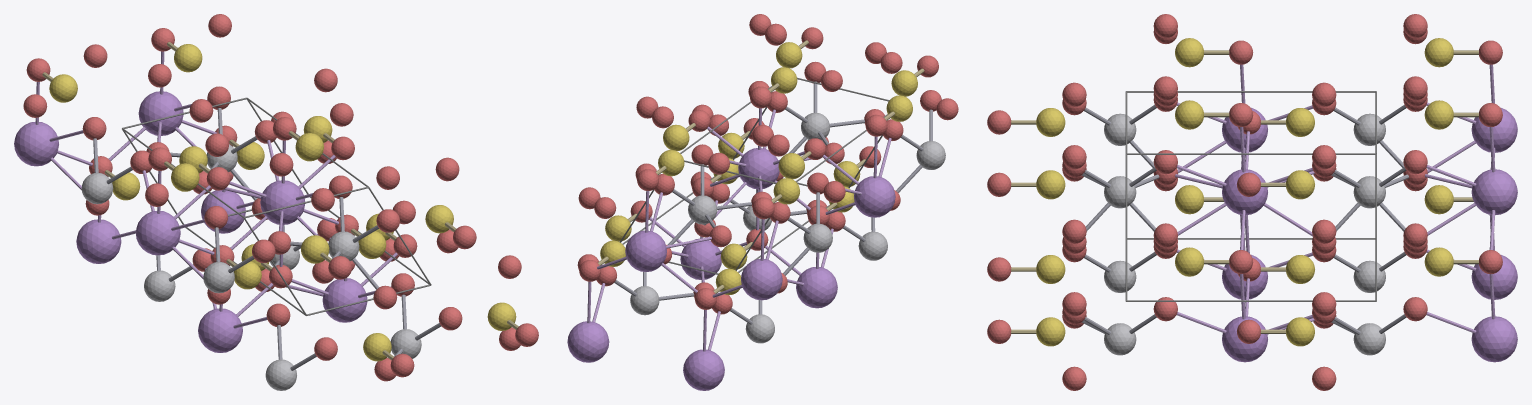
Rendered from Anhydrous_alum_KAl_SO4_2_with_KO_coordination.glb.
The picture shows the model from 3 angles, left to right: view 1: azimuth 30°, elevation 25°; view 2: azimuth 150°, elevation 25°; view 3: azimuth 270°, elevation 25°; orthographic projection. The views are drawn at different scales.
Visible parts, largest first — view 1: O_atoms, K_atoms, S_atoms, bonds, Al_atoms, unit_cell_outline; view 2: O_atoms, K_atoms, S_atoms, bonds, Al_atoms, unit_cell_outline; view 3: O_atoms, S_atoms, bonds, K_atoms, Al_atoms, unit_cell_outline.
Part boxes in pixels (<box>): O_atoms: <box>23,14,538,381</box>; K_atoms: <box>14,91,367,352</box>; S_atoms: <box>49,44,516,361</box>; bonds: <box>35,42,518,370</box>; Al_atoms: <box>81,144,421,390</box>; unit_cell_outline: <box>122,97,431,315</box>; O_atoms: <box>577,14,958,314</box>; K_atoms: <box>567,148,895,390</box>; S_atoms: <box>600,42,917,295</box>; bonds: <box>587,40,932,351</box>; Al_atoms: <box>630,112,945,343</box>; unit_cell_outline: <box>620,77,889,274</box>; O_atoms: <box>987,14,1502,390</box>; S_atoms: <box>1036,38,1453,346</box>; bonds: <box>1011,50,1495,334</box>; K_atoms: <box>1222,107,1517,362</box>; Al_atoms: <box>1104,113,1385,355</box>; unit_cell_outline: <box>1125,91,1376,301</box>.
Bounding box in the file's own units: 12.49 × 9.23 × 16.95.
